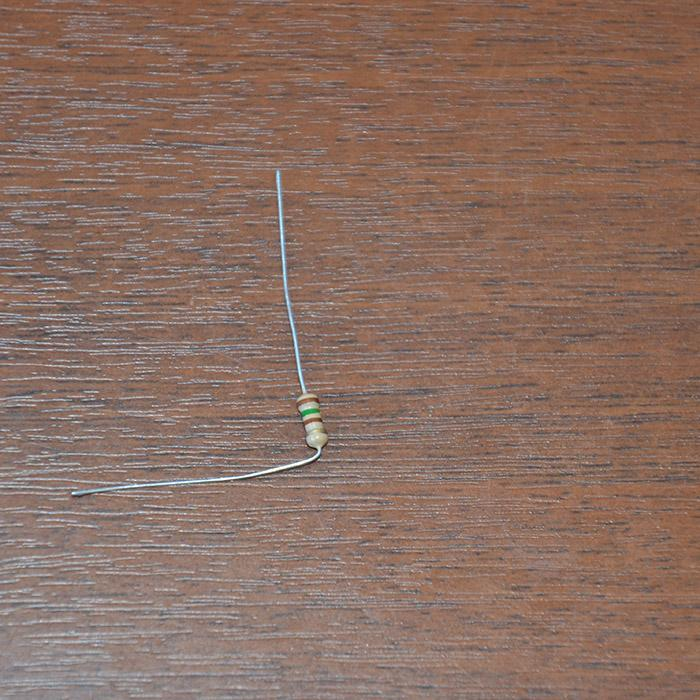resistor: (295, 392, 328, 447)
